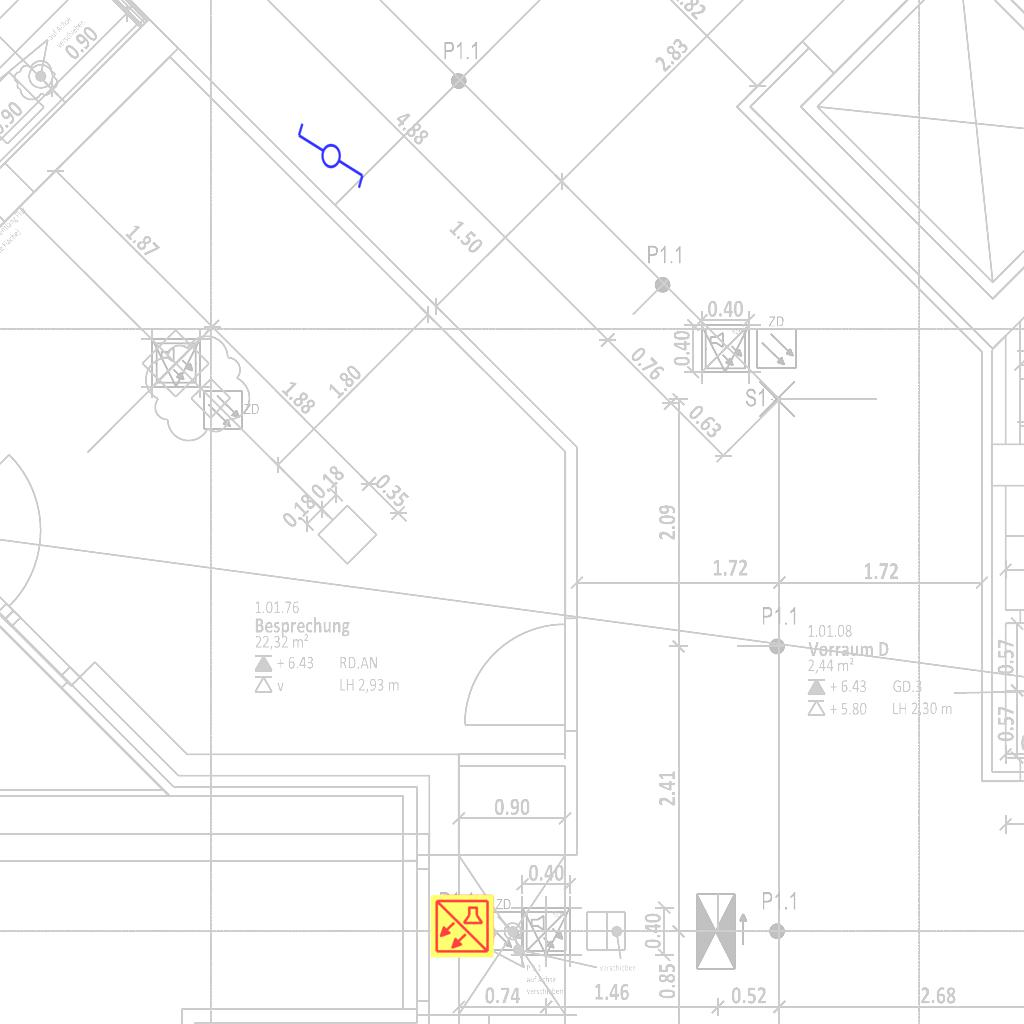OKW_Multisensormelder_(Kombination_optischer_Rauch-Kahlenmonoxid_Waerme-Melder): (429, 893, 495, 959)
Wechselschalter: (294, 121, 366, 199)
